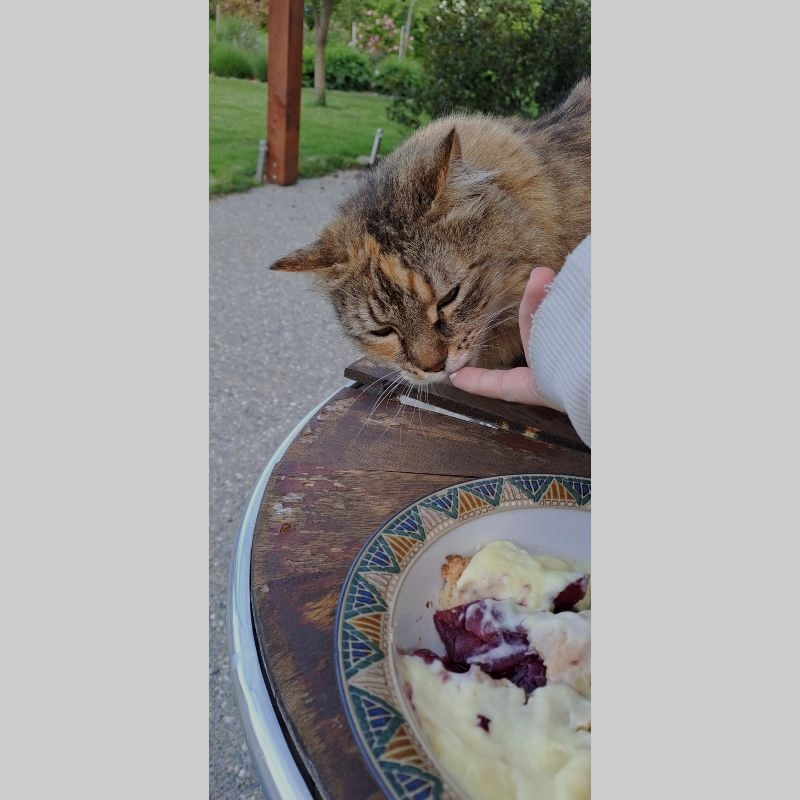yellow: (270, 72, 590, 416)
